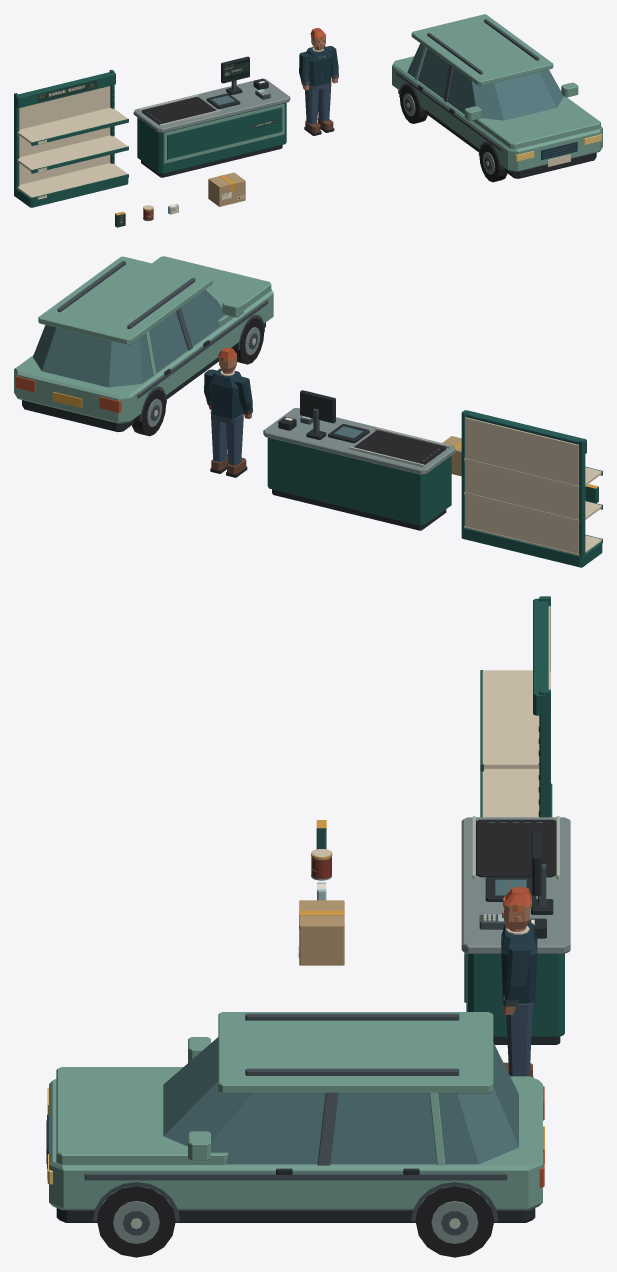
The model's file is HarborMarketModels.glb.
3 views of the same model, one above another, from view 1: azimuth 30°, elevation 25°; view 2: azimuth 150°, elevation 25°; view 3: azimuth 270°, elevation 25° (orthographic). The views are drawn at different scales.
Visible parts, largest first — view 1: Quayside estate, Grocery shelf, Checkout with conveyor, scanner and payment terminal, Harbor customer, Receiving carton; view 2: Quayside estate, Checkout with conveyor, scanner and payment terminal, Grocery shelf, Harbor customer, Receiving carton; view 3: Quayside estate, Checkout with conveyor, scanner and payment terminal, Grocery shelf, Harbor customer, Receiving carton.
Boxes of the visible parts, left/top/right/bottom form: Quayside estate: left=392, top=14, right=602, bottom=182; Grocery shelf: left=14, top=69, right=128, bottom=207; Checkout with conveyor, scanner and payment terminal: left=133, top=56, right=290, bottom=177; Harbor customer: left=299, top=28, right=338, bottom=135; Receiving carton: left=208, top=172, right=245, bottom=206; Quayside estate: left=14, top=256, right=273, bottom=436; Checkout with conveyor, scanner and payment terminal: left=263, top=390, right=455, bottom=530; Grocery shelf: left=461, top=410, right=602, bottom=567; Harbor customer: left=204, top=347, right=252, bottom=477; Receiving carton: left=442, top=436, right=461, bottom=476; Quayside estate: left=46, top=1012, right=544, bottom=1257; Checkout with conveyor, scanner and payment terminal: left=461, top=816, right=570, bottom=1044; Grocery shelf: left=480, top=596, right=552, bottom=817; Harbor customer: left=501, top=887, right=537, bottom=1077; Receiving carton: left=298, top=900, right=344, bottom=965.
Size of the model in its own units: 8.46 by 1.74 by 4.04.
1 material, 1 textured.
